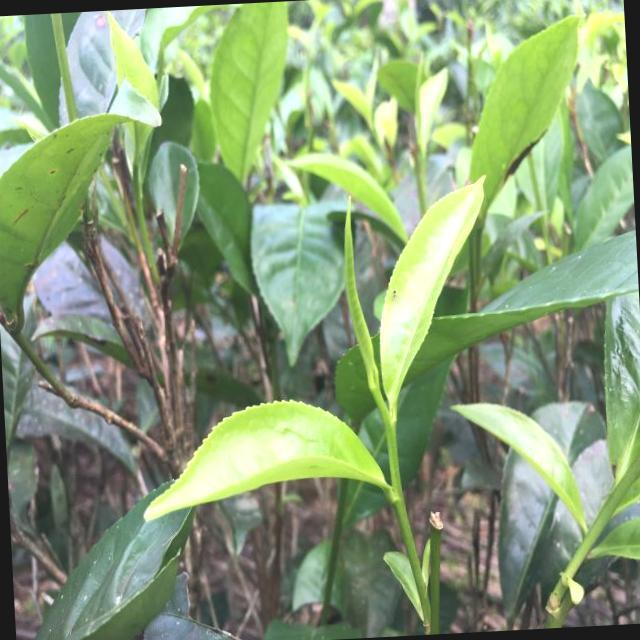Stem: (385, 420, 397, 458), (416, 157, 426, 186)
